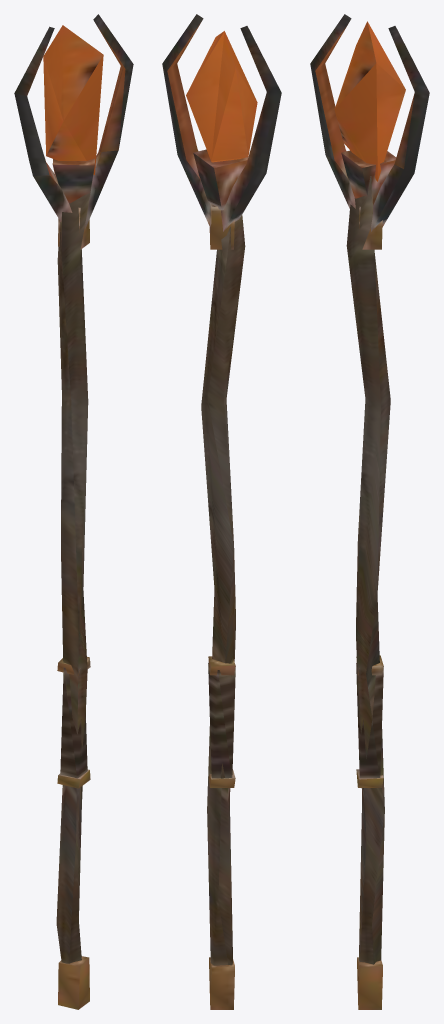
File: eq_staff_3_lod2.glb
3 views of the same model, side by side, from view 1: azimuth 30°, elevation 25°; view 2: azimuth 150°, elevation 25°; view 3: azimuth 330°, elevation 25° (orthographic).
Parts seen in each view (by area): view 1: eq_staff_3_lod2; view 2: eq_staff_3_lod2; view 3: eq_staff_3_lod2.
Part boxes in pixels (left/top/right/bottom): eq_staff_3_lod2: left=14, top=14, right=133, bottom=1009; eq_staff_3_lod2: left=162, top=14, right=281, bottom=1009; eq_staff_3_lod2: left=310, top=14, right=429, bottom=1009.
Bounding box in the file's own units: 0.2608 × 2.05 × 0.1092.
1 material, 1 textured.
